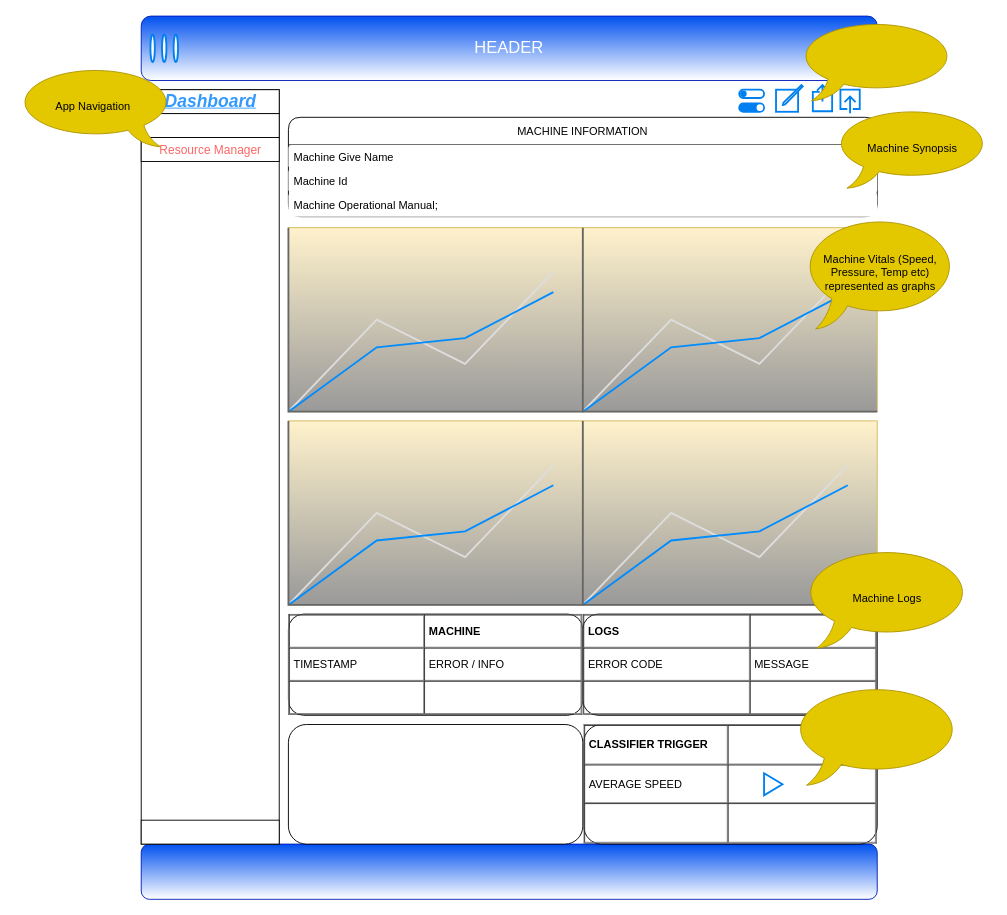
The diagram is 1007 pixels wide and 915 high, and some of its shapes have lost their labels. Each missing label, with the centre of its shape:
"FOOTER" belongs at pixel 508 871.
"Information Export Actions" belongs at pixel 877 60.
"Machine Prediction Classifier Trigger" belongs at pixel 877 734.
"MACHINE TIMESTAMP CYCLE" belongs at pixel 435 784.
